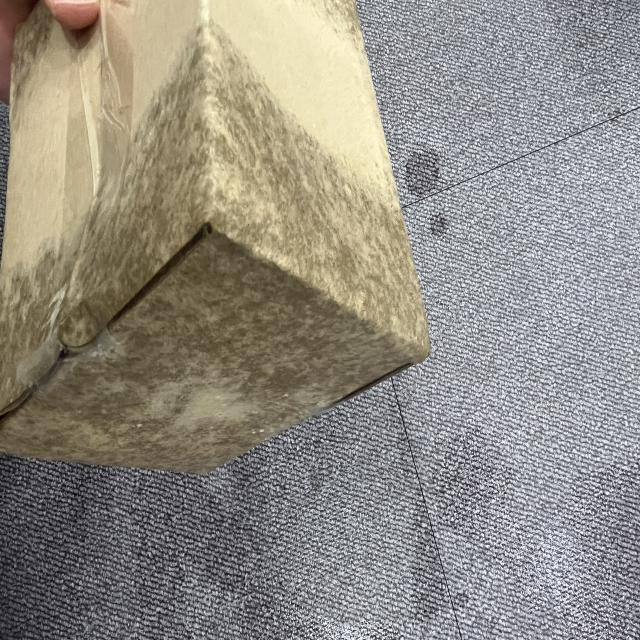wet: (0, 26, 428, 471)
